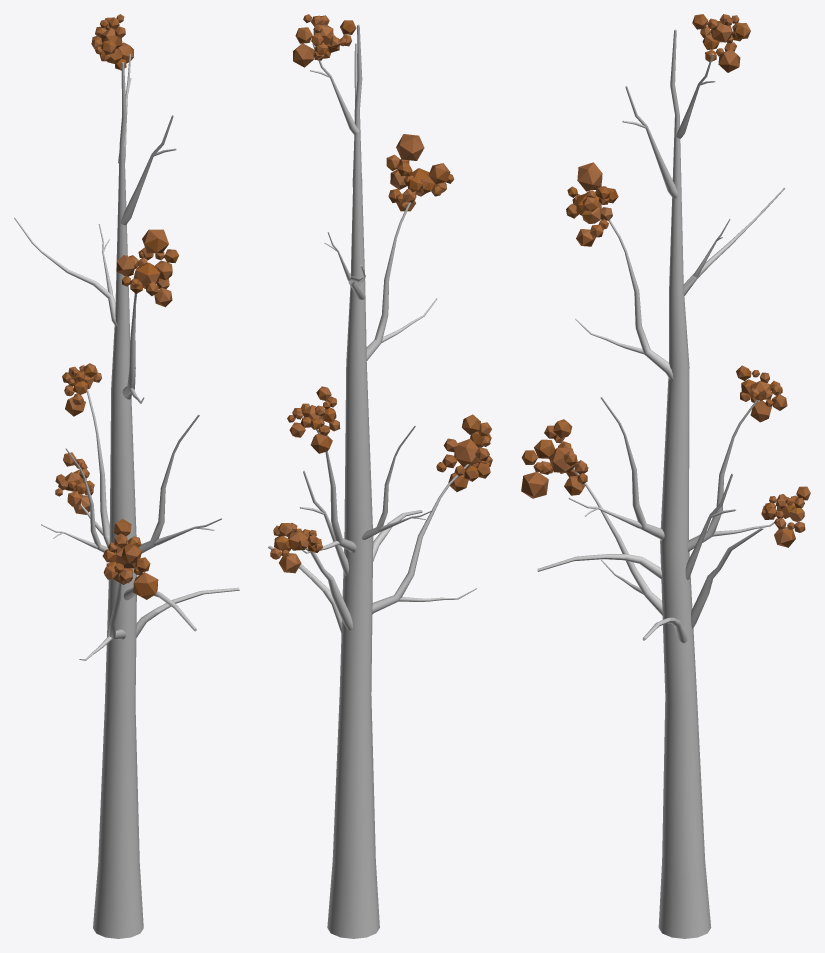
The model's file is underworld tree var 1.fbx.
The picture shows the model from 3 angles, left to right: view 1: azimuth 30°, elevation 25°; view 2: azimuth 150°, elevation 25°; view 3: azimuth 270°, elevation 25°; orthographic projection. The views are drawn at different scales.
Parts seen in each view (by area): view 1: underworld tree var 1; view 2: underworld tree var 1; view 3: underworld tree var 1.
Boxes of the visible parts, x1,y1,x2,y2 form: underworld tree var 1: (14,14,239,938); underworld tree var 1: (268,14,492,938); underworld tree var 1: (521,14,810,938).
Bounding box in the file's own units: 374 × 1764 × 503.
